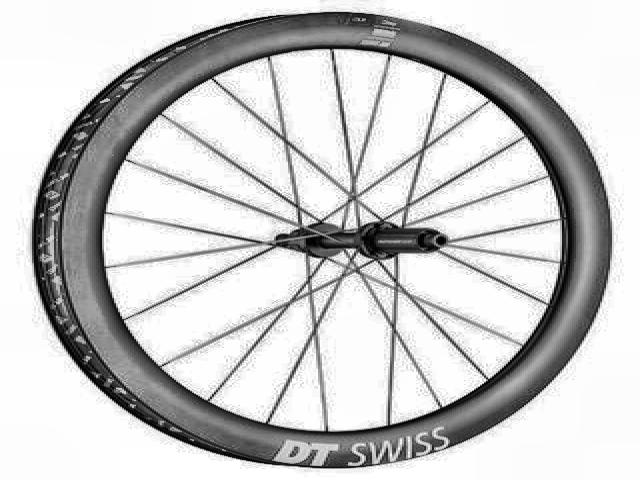wheel: (22, 4, 617, 470)
